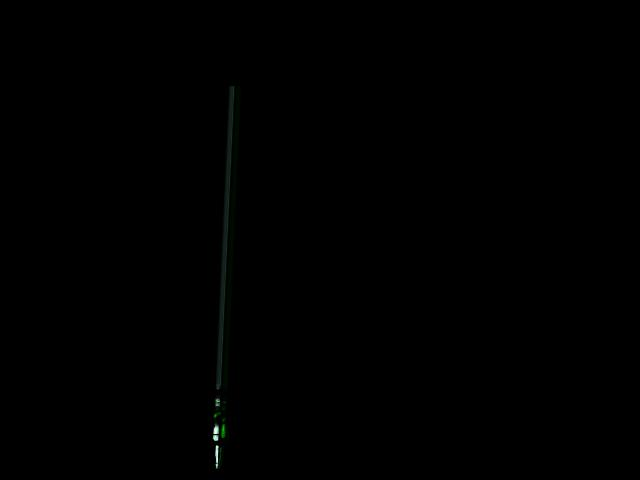beer: (210, 399, 230, 469)
